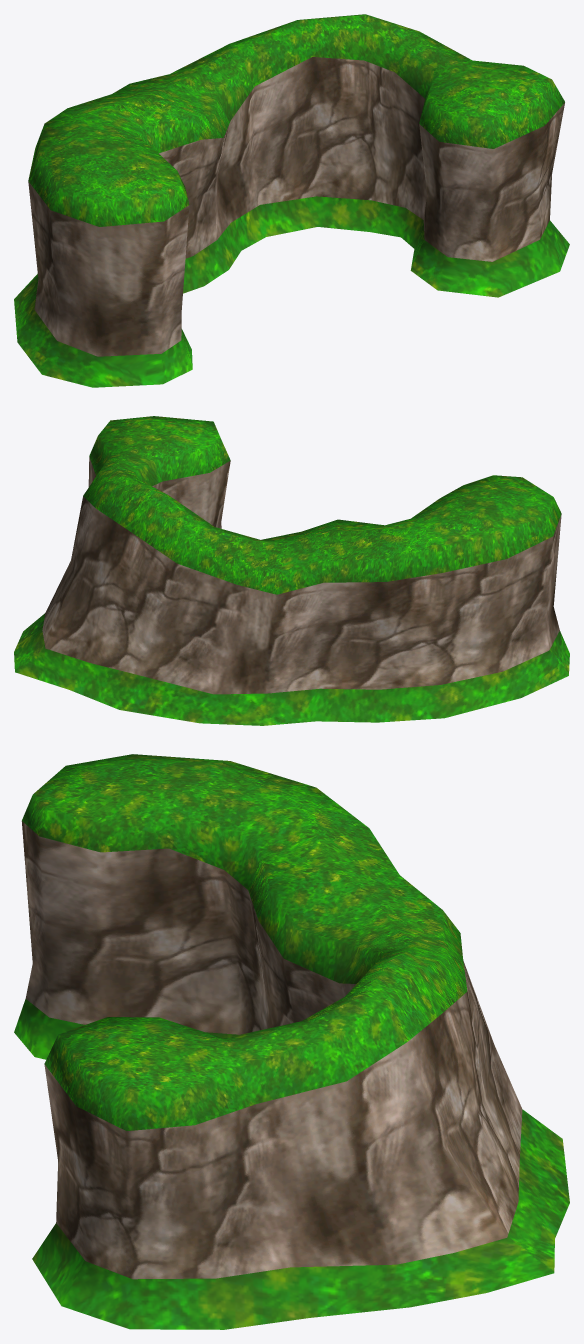
File: EKH_ENTRANCE_PS_EN_WALKWAY_4635__GX.fbx
The picture shows the model from 3 angles, top to bottom: view 1: azimuth 30°, elevation 25°; view 2: azimuth 150°, elevation 25°; view 3: azimuth 270°, elevation 25°; orthographic projection. The views are drawn at different scales.
Parts seen in each view (by area): view 1: EKH_ENTRANCE_PS_EN_WALKWAY_4635__GX; view 2: EKH_ENTRANCE_PS_EN_WALKWAY_4635__GX; view 3: EKH_ENTRANCE_PS_EN_WALKWAY_4635__GX.
Part boxes in pixels (x1,y1,x2,y2): EKH_ENTRANCE_PS_EN_WALKWAY_4635__GX: [14, 14, 569, 387]; EKH_ENTRANCE_PS_EN_WALKWAY_4635__GX: [14, 416, 569, 725]; EKH_ENTRANCE_PS_EN_WALKWAY_4635__GX: [14, 754, 569, 1329].
Size of the model in its own units: 99333 by 34868 by 67100.
Materials: 2 (2 with a texture image).
